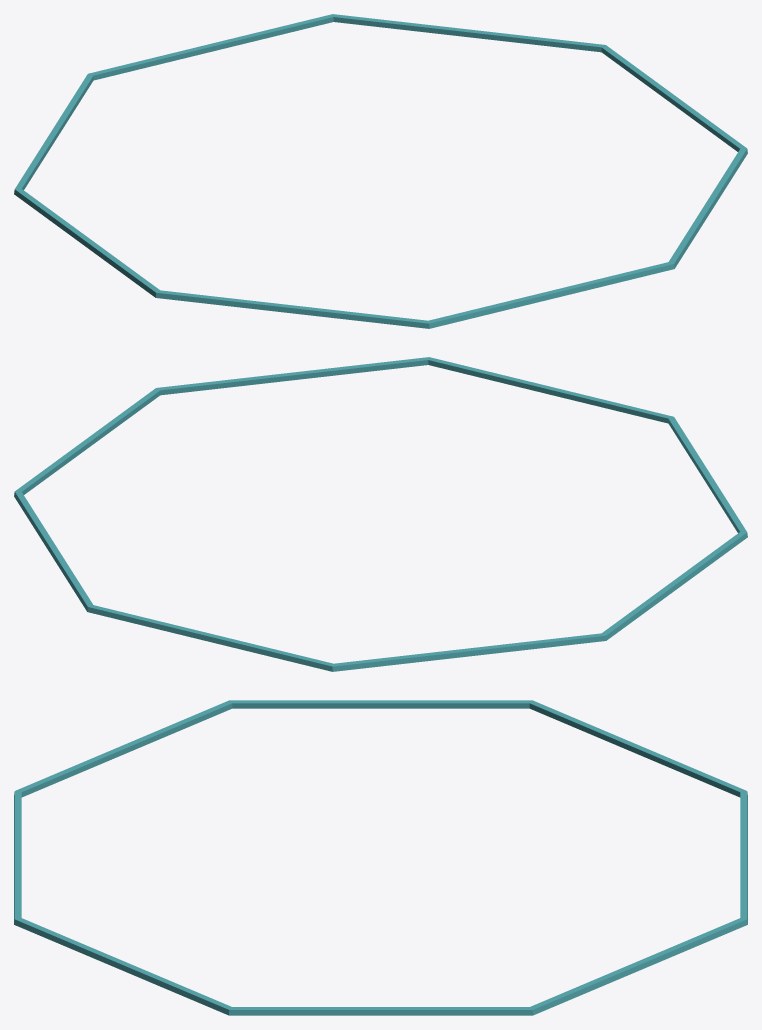
File: BridgePaneling.fbx
The picture shows the model from 3 angles, top to bottom: view 1: azimuth 30°, elevation 25°; view 2: azimuth 150°, elevation 25°; view 3: azimuth 270°, elevation 25°; orthographic projection. The views are drawn at different scales.
Parts seen in each view (by area): view 1: polySurface511; view 2: polySurface511; view 3: polySurface511.
Part boxes in pixels (x1,y1,x2,y2): polySurface511: [14, 14, 747, 328]; polySurface511: [14, 357, 747, 671]; polySurface511: [14, 700, 747, 1015].
Bounding box in the file's own units: 1077 × 8.68 × 1077.
